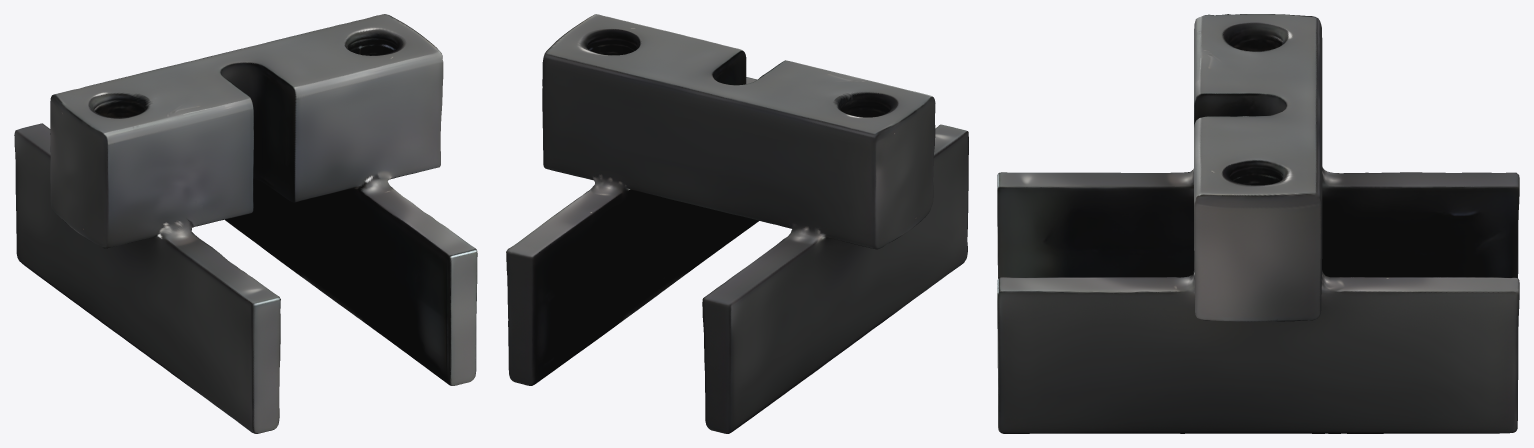
The model's file is Mesa.glb.
The picture shows the model from 3 angles, left to right: view 1: azimuth 30°, elevation 25°; view 2: azimuth 150°, elevation 25°; view 3: azimuth 270°, elevation 25°; orthographic projection. The views are drawn at different scales.
Parts seen in each view (by area): view 1: model; view 2: model; view 3: model.
Boxes of the visible parts, x1,y1,x2,y2 form: model: (14, 14, 477, 433); model: (506, 14, 968, 433); model: (997, 14, 1519, 433).
Size of the model in its own units: 1.53 by 1.07 by 1.86.
1 material, 1 textured.
